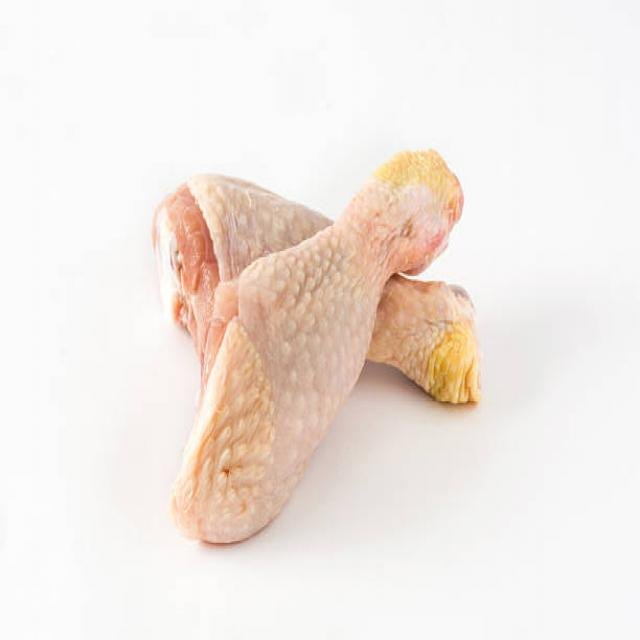Chicken Thigh: (178, 138, 464, 556)
